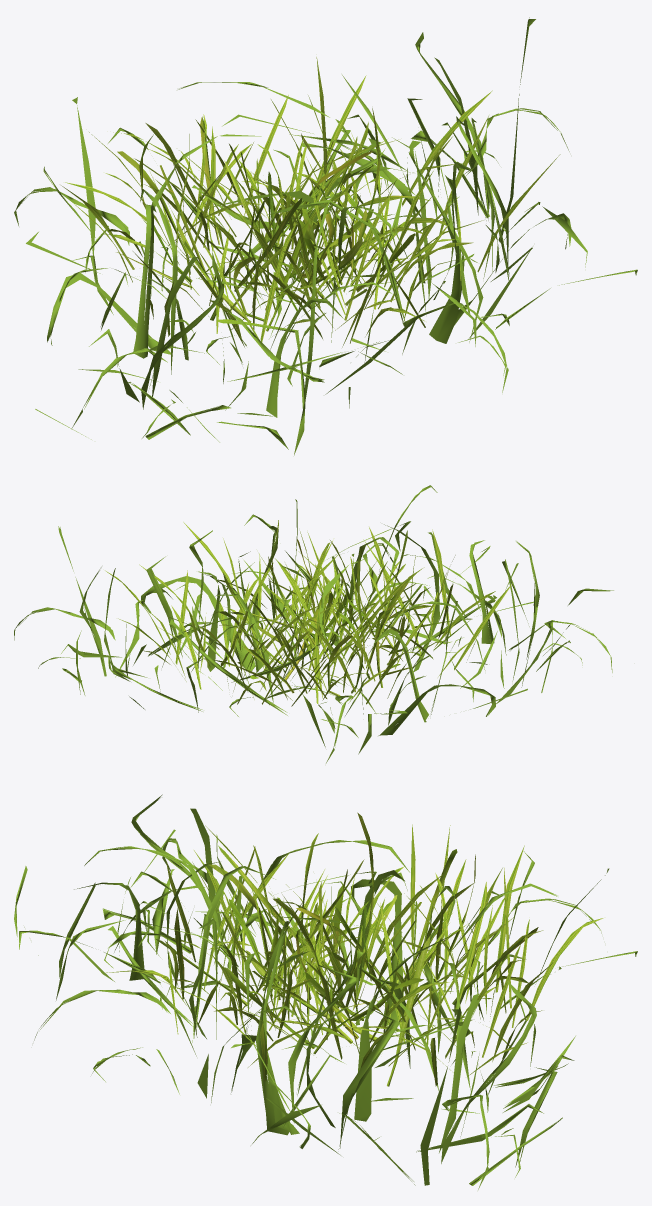
File: grass_a.glb
3 views of the same model, one above another, from view 1: azimuth 30°, elevation 25°; view 2: azimuth 150°, elevation 25°; view 3: azimuth 270°, elevation 25° (orthographic). The views are drawn at different scales.
Visible parts, largest first — view 1: grass_a.glb; view 2: grass_a.glb; view 3: grass_a.glb.
Part boxes in pixels (x1,y1,x2,y2): grass_a.glb: [14, 17, 637, 455]; grass_a.glb: [14, 485, 613, 763]; grass_a.glb: [14, 794, 637, 1189].
Size of the model in its own units: 0.8074 by 0.2612 by 0.6382.
1 material, 1 textured.
